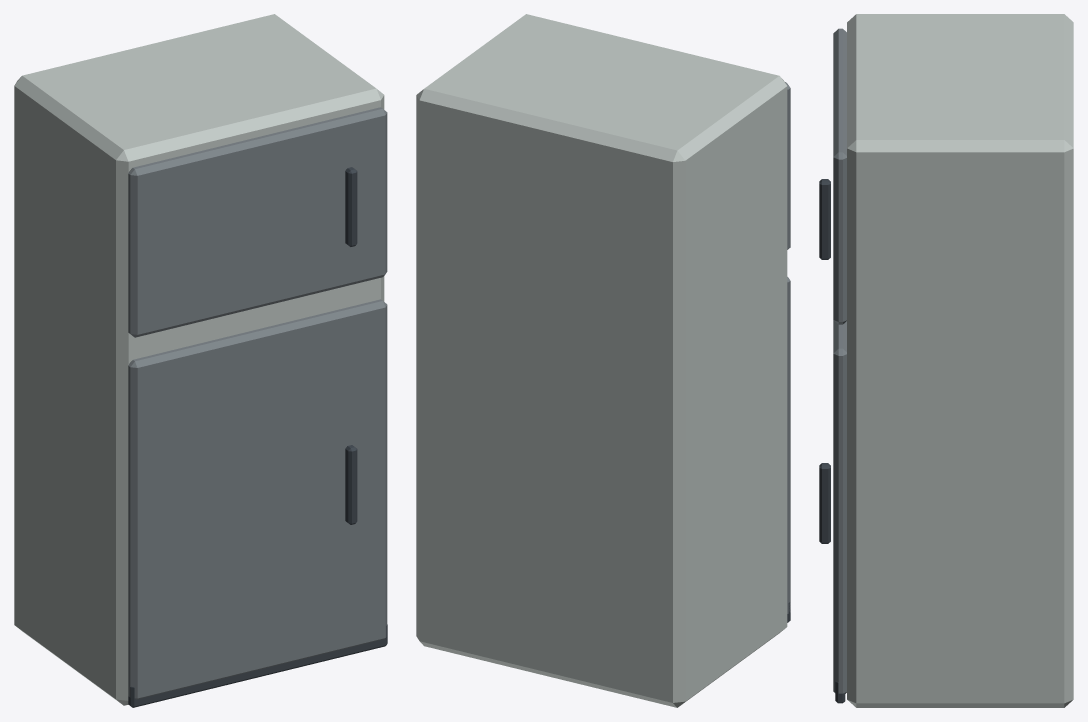
File: FridgeWide.fbx
3 views of the same model, side by side, from view 1: azimuth 30°, elevation 25°; view 2: azimuth 150°, elevation 25°; view 3: azimuth 270°, elevation 25° (orthographic). The views are drawn at different scales.
Parts seen in each view (by area): view 1: FridgeWide; view 2: FridgeWide; view 3: FridgeWide.
Part boxes in pixels (<box>): FridgeWide: <box>14,14,387,707</box>; FridgeWide: <box>416,14,790,707</box>; FridgeWide: <box>819,14,1073,707</box>.
Bounding box in the file's own units: 95 × 188 × 76.35.
1 material, 1 textured.
